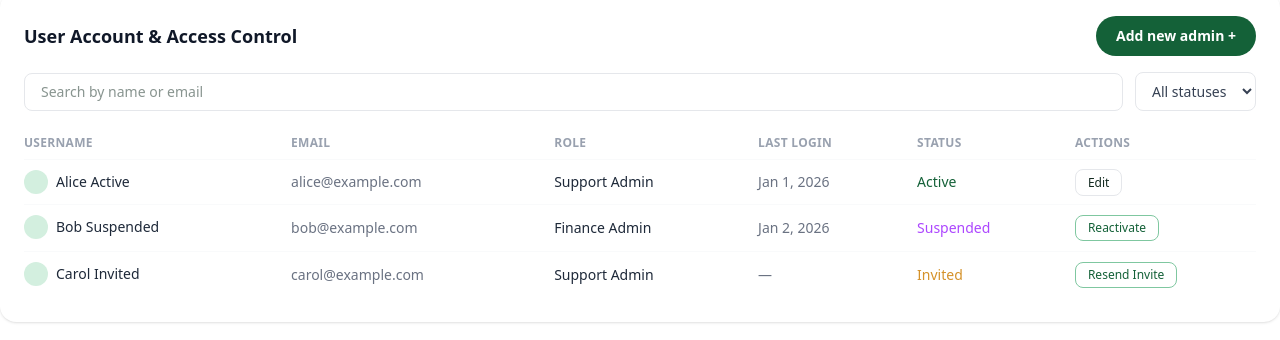
Test case: UserManagementTable › filters by search text across name and email
The image size is (1280, 340).
Type "bob@example.com" into the search field with placeholder "Search by name or email".
click(574, 92); type("bob@example.com")  # box [24, 72, 1123, 110]
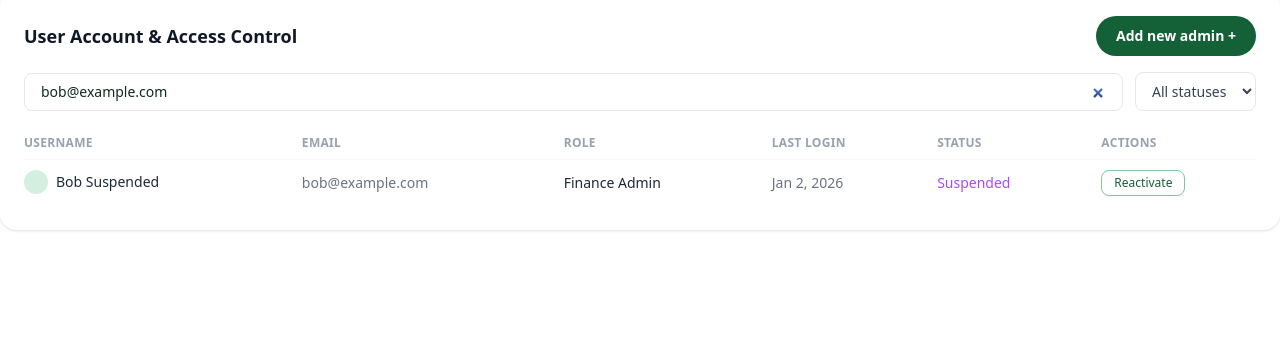
Expected: the text "Bob Suspended" is shown, [24, 160, 302, 204]
Expected: the text "Alice Active" is gone
Expected: the text "Carol Invited" is gone
